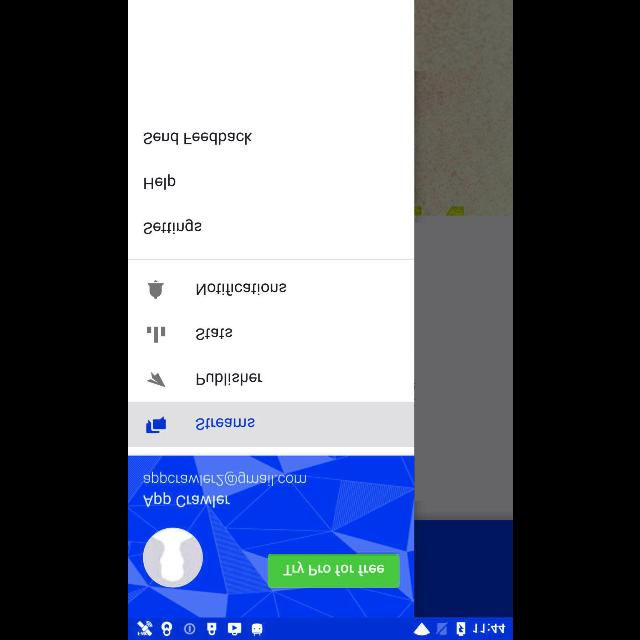icon: (142, 527, 202, 587), (144, 416, 166, 434), (146, 326, 166, 344), (146, 280, 164, 300), (146, 371, 164, 387)
panel: (127, 0, 413, 618)
text: (142, 471, 306, 487), (143, 492, 230, 508), (142, 132, 252, 144), (196, 282, 286, 296), (195, 372, 262, 386), (143, 219, 201, 235), (196, 418, 254, 430), (143, 174, 175, 190), (194, 328, 232, 340)
textbutton: (267, 553, 399, 587)
uppertaskbar: (128, 617, 512, 639)
